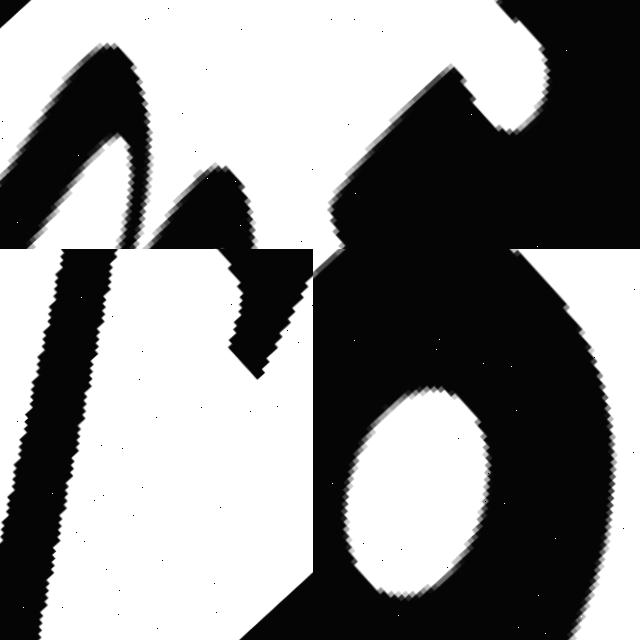7: (0, 249, 313, 640)
C: (313, 0, 640, 249)
M: (0, 0, 313, 249)
O: (313, 249, 640, 640)
